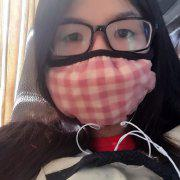OK: (46, 12, 159, 125)
